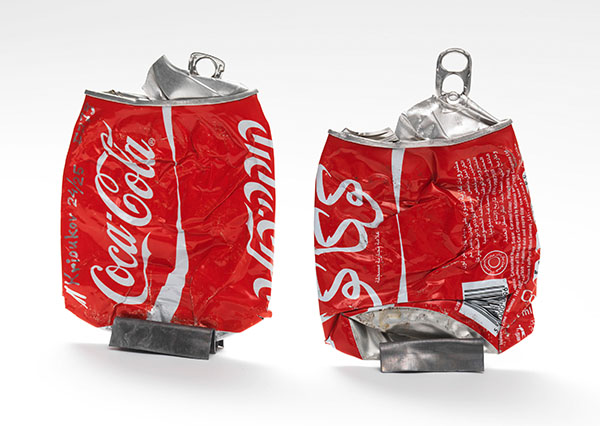can: (307, 40, 559, 353), (51, 43, 296, 332)
